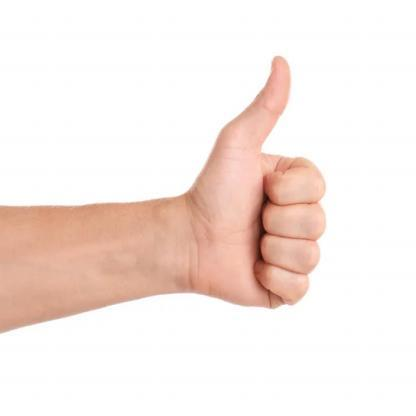thumb_up: (190, 52, 328, 310)
